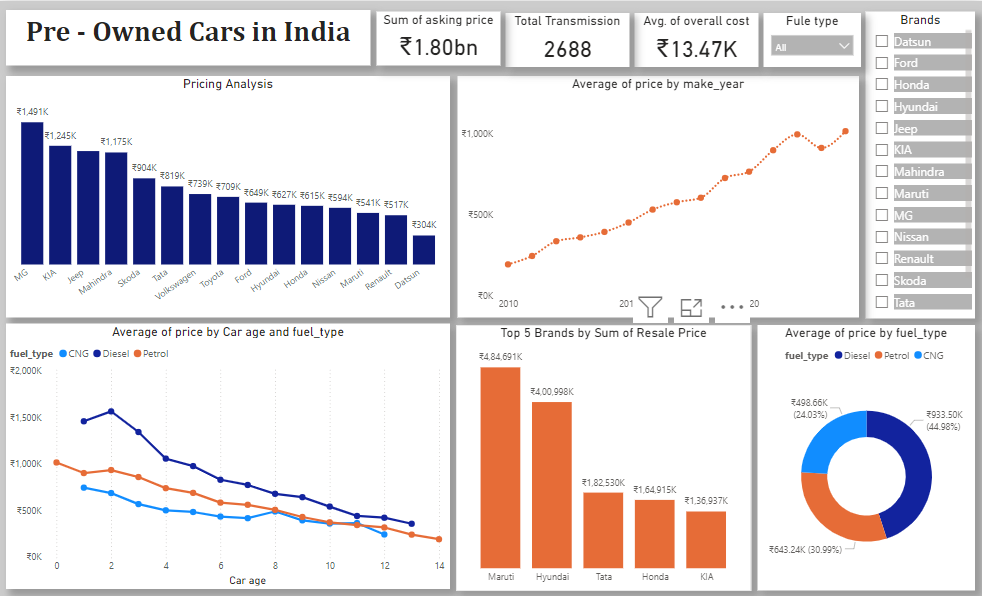

This screenshot's page, from the dashboard's own definition file:
{"tool":"powerbi","page":{"name":"Dashboard","canvas":[1310,800],"ordinal":0},"visuals":[{"type":"textbox","box":[8,12,486,74],"z":0},{"type":"clusteredColumnChart","title":"Pricing Analysis","fields":{"Category":["Pre owned cars.brand"],"Y":["Avg(Pre owned cars.price)"]},"box":[8,100,592,322],"z":1000},{"type":"slicer","title":"Brands","fields":{"Values":["Pre owned cars.brand"]},"box":[1154,14,146,409],"z":2000},{"type":"lineChart","fields":{"Y":["Avg(Pre owned cars.price)"],"Category":["Pre owned cars.Car age"],"Series":["Pre owned cars.fuel_type"]},"box":[8,430,592,354],"z":3000},{"type":"lineChart","fields":{"Y":["Avg(Pre owned cars.price)"],"Category":["Pre owned cars.make_year"]},"box":[610,100,535,322],"z":4000},{"type":"card","title":"Avg. of overall cost","fields":{"Values":["Avg(Pre owned cars.overall_cost)"]},"box":[845,15,165,71.7],"z":5000},{"type":"columnChart","title":"Top 5 Brands by Sum of Resale Price","fields":{"Category":["Pre owned cars.brand"],"Y":["Sum(Pre owned cars.price)"]},"box":[608,432,394,354],"z":6000},{"type":"slicer","title":"Fule type","fields":{"Values":["Pre owned cars.fuel_type"]},"box":[1018.3,15,130,71.7],"z":7000},{"type":"card","title":"Total Transmission","fields":{"Values":["CountNonNull(Pre owned cars.transmission)"]},"box":[673.3,15,165,71.7],"z":8000},{"type":"card","title":"Sum of asking price","fields":{"Values":["Sum(Pre owned cars.price)"]},"box":[501.7,13.3,165,71.7],"z":9000},{"type":"donutChart","fields":{"Category":["Pre owned cars.fuel_type"],"Y":["Avg(Pre owned cars.price)"]},"box":[1010,432,290,354],"z":10000}]}

Visuals, with their boxes in screenshot pixels (x1, y1, x2, y2), scaled from the page's 1310x800 canvas onto the 982x596 screenshot:
textbox: [6,9,370,64]
"Pricing Analysis" clusteredColumnChart: [6,74,450,314]
"Brands" slicer: [865,10,975,315]
lineChart - Avg(Pre owned cars.price) x Pre owned cars.Car age: [6,320,450,584]
lineChart - Avg(Pre owned cars.price) x Pre owned cars.make_year: [457,74,858,314]
"Avg. of overall cost" card: [633,11,757,65]
"Top 5 Brands by Sum of Resale Price" columnChart: [456,322,751,586]
"Fule type" slicer: [763,11,861,65]
"Total Transmission" card: [505,11,628,65]
"Sum of asking price" card: [376,10,500,63]
donutChart - Pre owned cars.fuel_type x Avg(Pre owned cars.price): [757,322,975,586]
